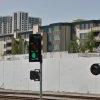Traffic light: (22, 18, 54, 69)
